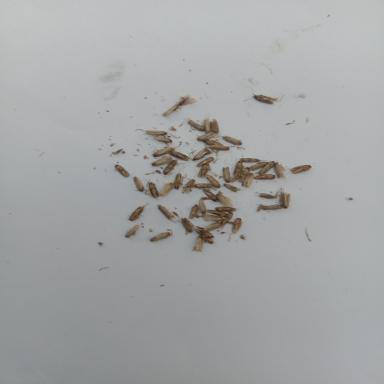pbw: (161, 159, 185, 175), (231, 166, 251, 183), (151, 146, 177, 159), (183, 116, 204, 132), (228, 218, 243, 240), (190, 147, 211, 162), (158, 204, 176, 221), (150, 156, 174, 168), (217, 134, 243, 145), (145, 180, 159, 200), (136, 128, 170, 136), (180, 217, 195, 235), (258, 160, 276, 175), (252, 93, 276, 104), (214, 193, 232, 207), (201, 188, 219, 202), (196, 231, 215, 244), (194, 226, 214, 238), (204, 173, 220, 188), (240, 171, 254, 188), (220, 211, 233, 229), (273, 161, 286, 179), (196, 156, 215, 168), (197, 163, 212, 178), (199, 222, 224, 231), (162, 103, 177, 118), (182, 178, 196, 194), (187, 203, 200, 220), (177, 95, 197, 106), (206, 208, 228, 218), (290, 164, 312, 174), (149, 232, 171, 242), (168, 151, 190, 161), (200, 213, 224, 222), (160, 182, 174, 197), (248, 161, 269, 171), (114, 164, 130, 177), (191, 235, 203, 252), (132, 176, 144, 193), (196, 132, 216, 142), (232, 160, 243, 178), (174, 171, 184, 190), (214, 206, 241, 213), (125, 224, 138, 238), (203, 114, 212, 133), (278, 186, 285, 209), (210, 144, 230, 152), (222, 183, 238, 193), (193, 182, 213, 190), (202, 139, 224, 146), (210, 118, 219, 135), (153, 136, 172, 144), (253, 174, 276, 180), (222, 166, 230, 183), (239, 157, 261, 163), (262, 204, 284, 210), (259, 192, 277, 199), (198, 199, 206, 214), (284, 191, 291, 208)
